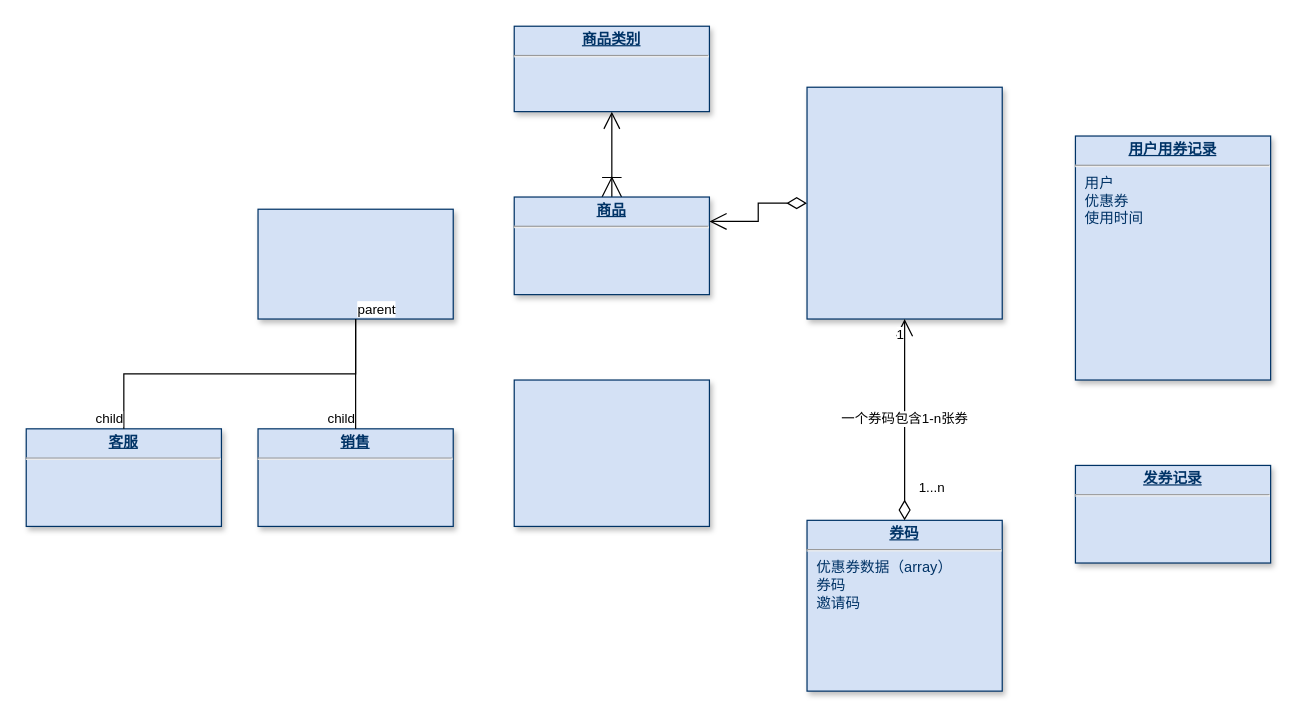
Image size: 1299x721. Some labels were removed from this diagram. Here are the shapes that lost their labels. From the top down, the centre of each, then its label:
At (x=905, y=204): "代金券 类型（商品券、抵扣券、折扣券） 对应商品（商品券） 抵扣金额（抵扣券） 折扣比例（折扣券） 消费门槛（抵扣券） 使用张数限制 有效期等".
At (x=356, y=265): "用户".
At (x=612, y=454): "用户持券 用户 代金券 持有数量 有效期等".
